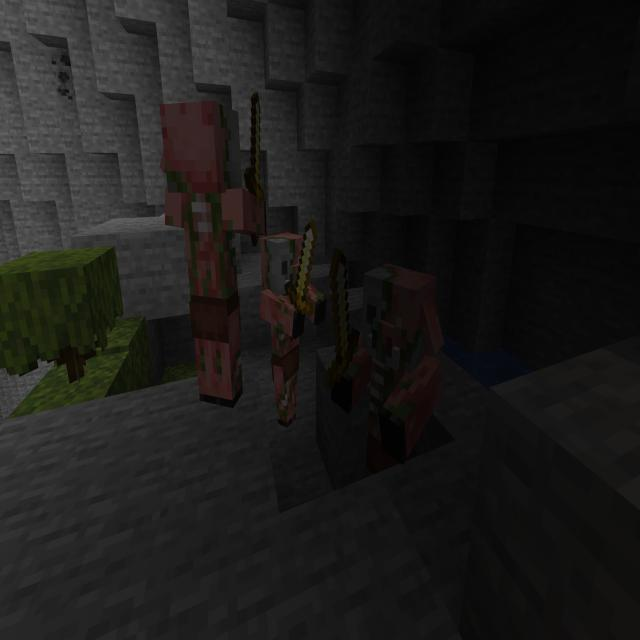Zombified Piglin: (331, 250, 448, 572), (156, 87, 268, 416), (258, 217, 330, 433)
